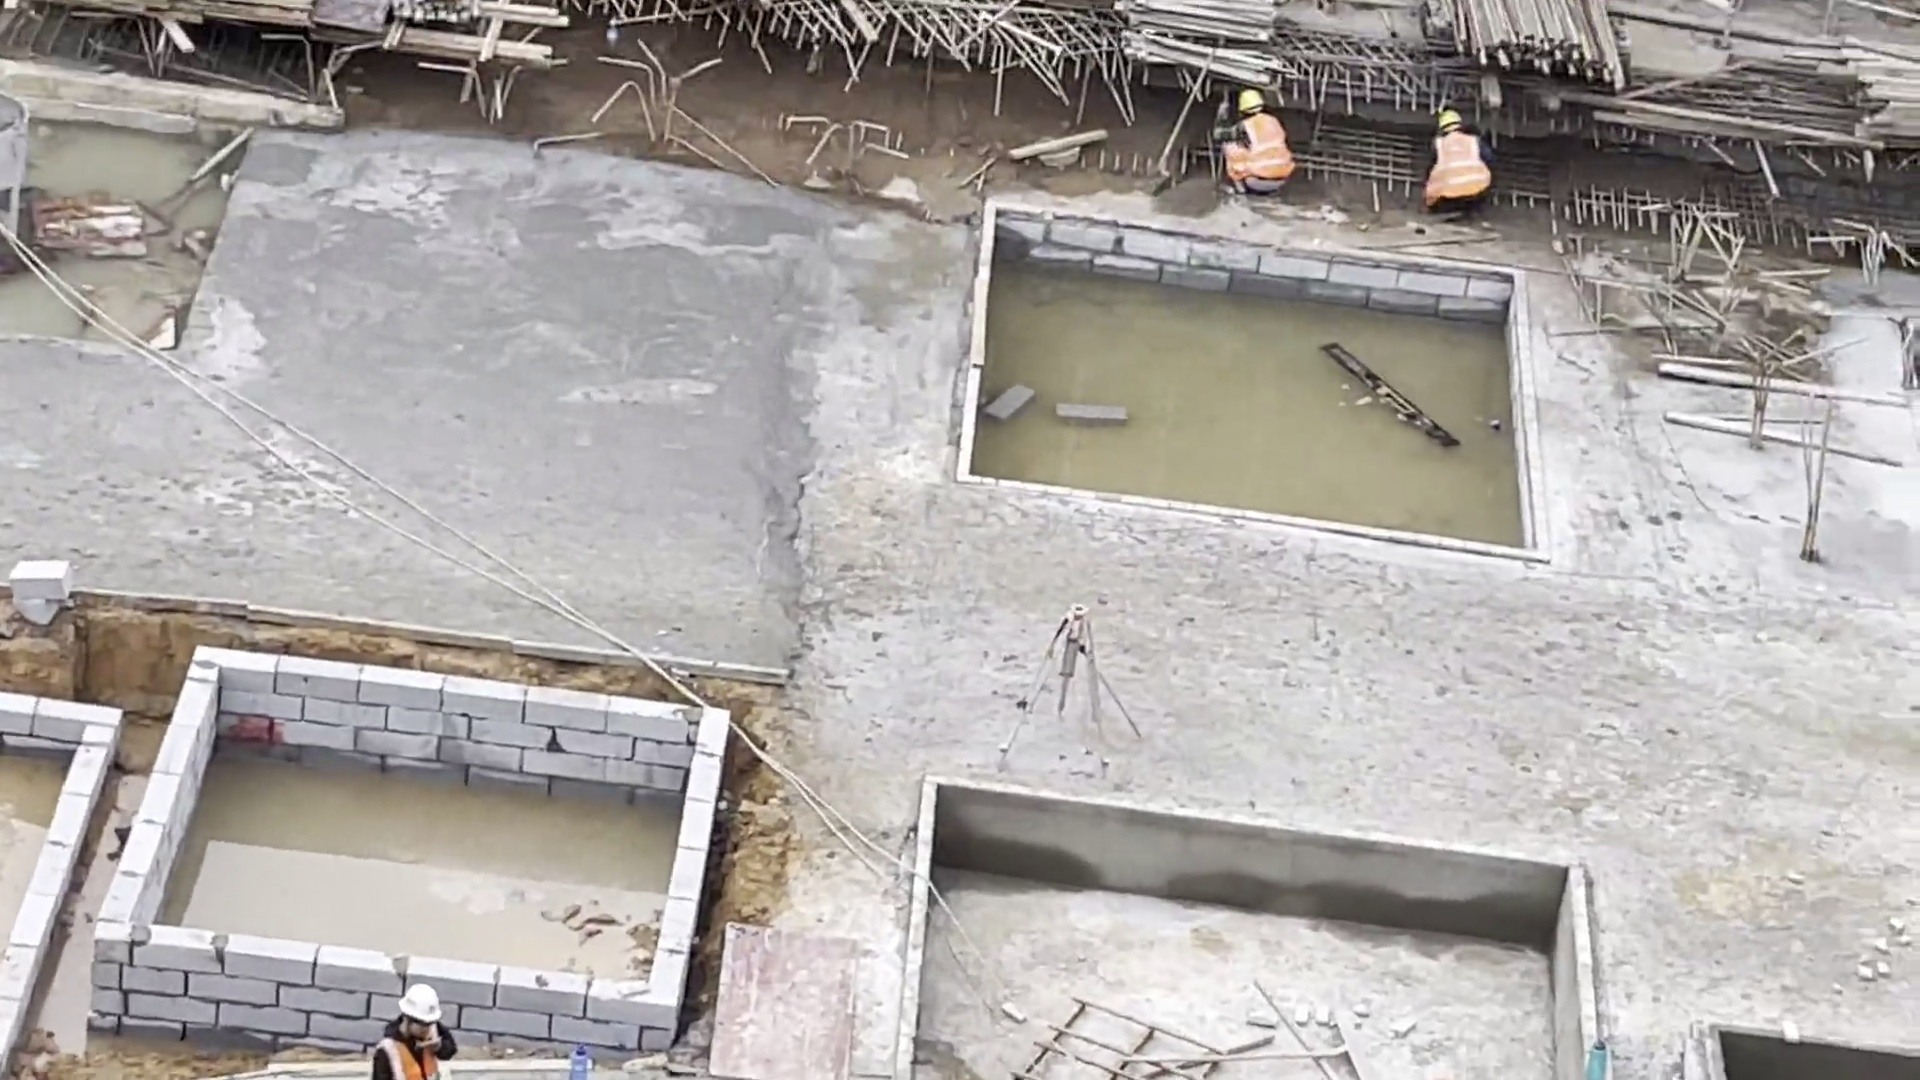brick: (188, 647, 701, 809), (108, 929, 661, 1045), (1017, 215, 1472, 328), (93, 659, 213, 1022), (4, 725, 104, 1060), (635, 708, 721, 1036), (3, 691, 107, 745)
helmet: (398, 989, 446, 1028), (1235, 85, 1263, 107), (1437, 106, 1459, 125)
person: (1207, 85, 1288, 199), (1417, 108, 1498, 217), (370, 984, 453, 1080)
vest: (1430, 132, 1485, 198), (1231, 118, 1282, 186), (386, 1034, 439, 1080)
wood: (1455, 8, 1638, 72)
